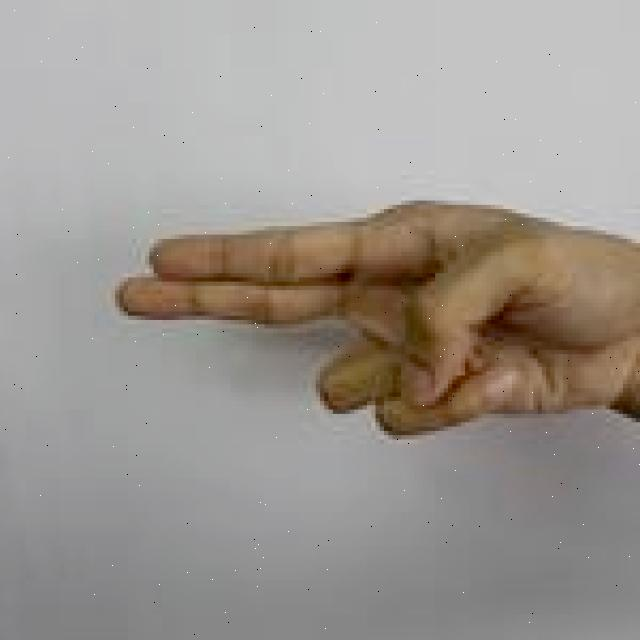H: (111, 193, 640, 444)
